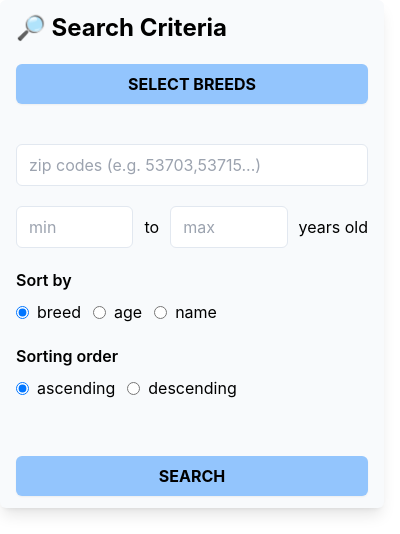
Test case: mal-formatted min and max ages are prevented › max = 1.2         - expect error message
Type "1.2" into the number field with placeholder "max" at (229, 227), box [170, 206, 288, 248]
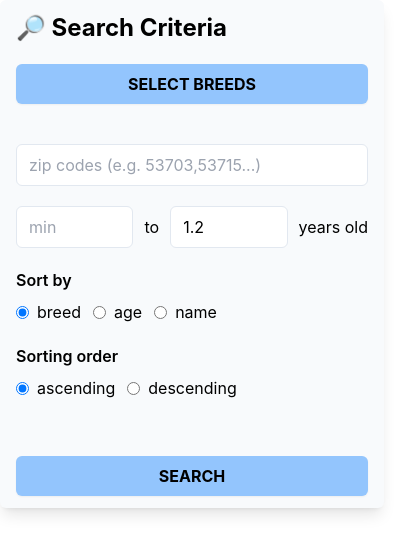
Click the button "SEARCH" at (192, 476), box [16, 456, 368, 496]
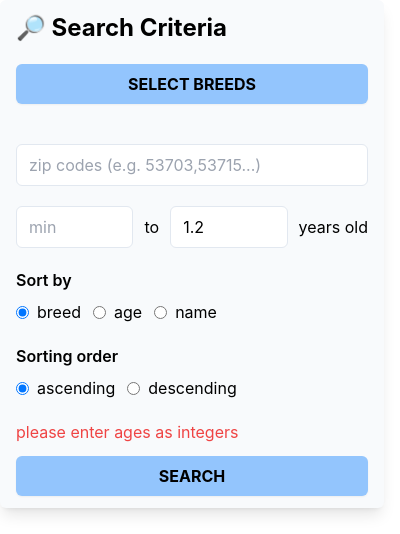
Result: the text "please enter ages as integers" is shown at [16, 422, 238, 442]
